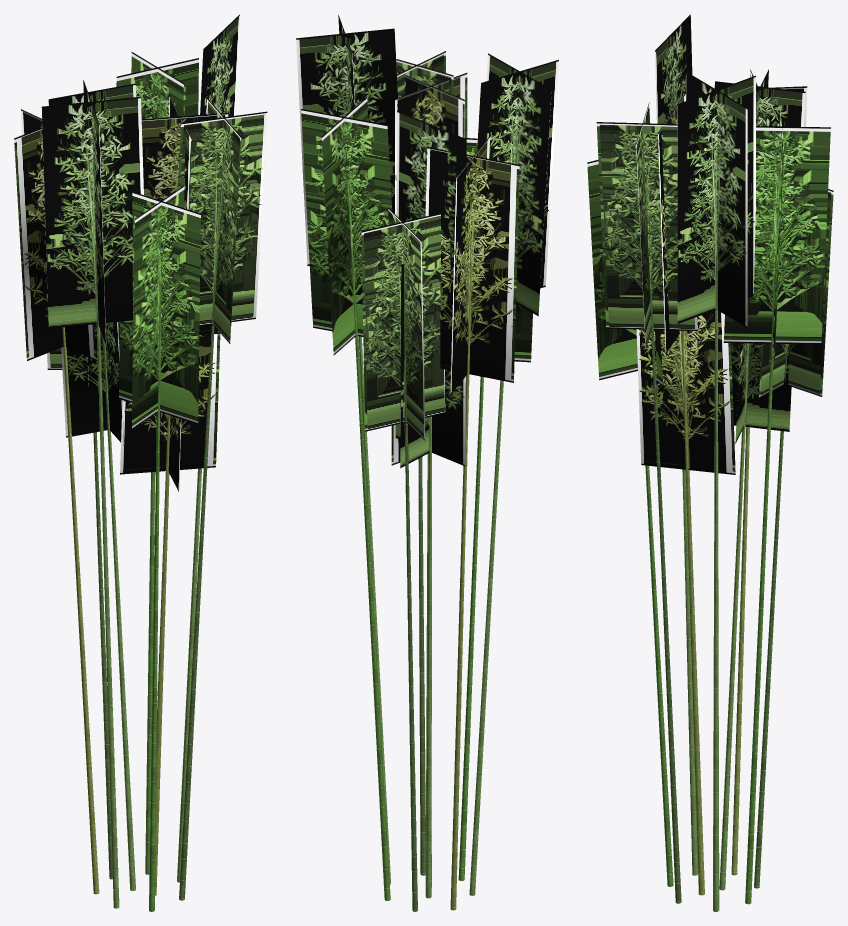
File: multiplebamboo01.fbx
The picture shows the model from 3 angles, left to right: view 1: azimuth 30°, elevation 25°; view 2: azimuth 150°, elevation 25°; view 3: azimuth 270°, elevation 25°; orthographic projection.
Parts seen in each view (by area): view 1: mdl_LOD0_sw; view 2: mdl_LOD0_sw; view 3: mdl_LOD0_sw.
Boxes of the visible parts, <box> form: mdl_LOD0_sw: <box>14,14,267,911</box>; mdl_LOD0_sw: <box>296,15,558,911</box>; mdl_LOD0_sw: <box>587,14,833,911</box>.
Size of what is drawn, in the model's own units: 831 by 2948 by 781.
